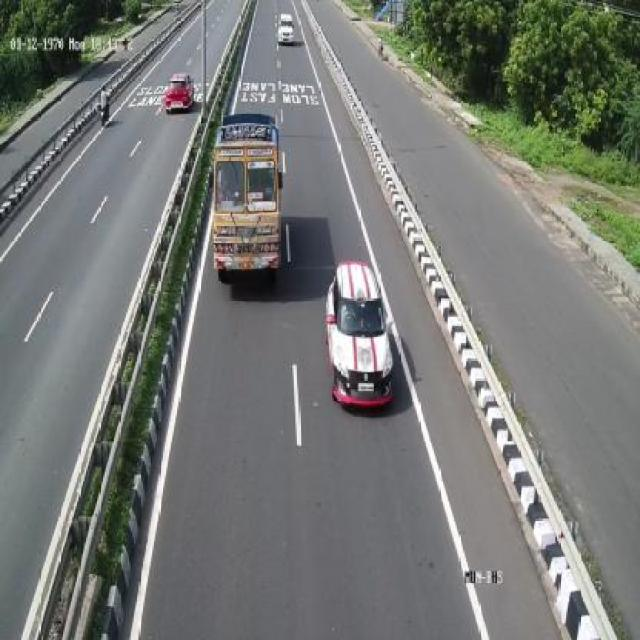car: (325, 254, 397, 411), (277, 6, 300, 51)
